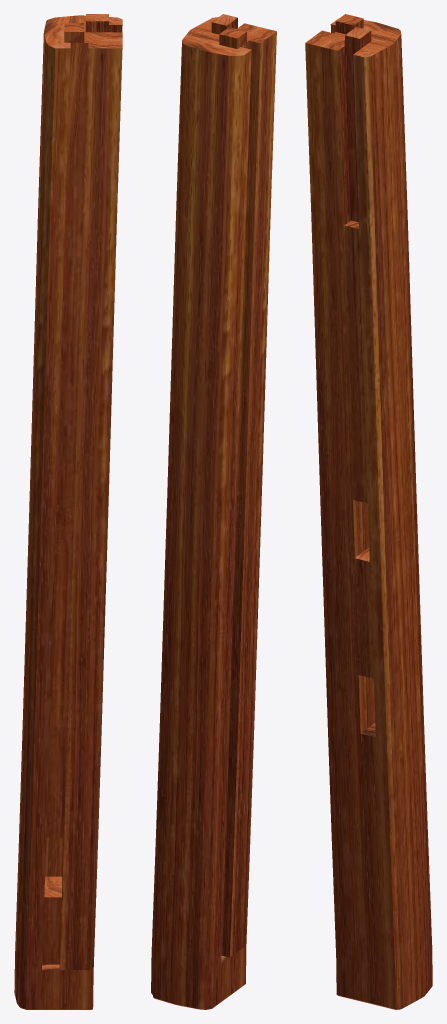
Rendered from GMY_J_qiantui_01.FBX.
3 views of the same model, side by side, from view 1: azimuth 90°, elevation 25°; view 2: azimuth 150°, elevation 25°; view 3: azimuth 330°, elevation 25° (orthographic). The views are drawn at different scales.
Parts seen in each view (by area): view 1: GMY_J_qiantui_01; view 2: GMY_J_qiantui_01; view 3: GMY_J_qiantui_01.
Part boxes in pixels (x1,y1,x2,y2): GMY_J_qiantui_01: (14,14,122,1009); GMY_J_qiantui_01: (151,14,276,1009); GMY_J_qiantui_01: (305,14,432,1009).
Bounding box in the file's own units: 4.49 × 49.51 × 4.94.
